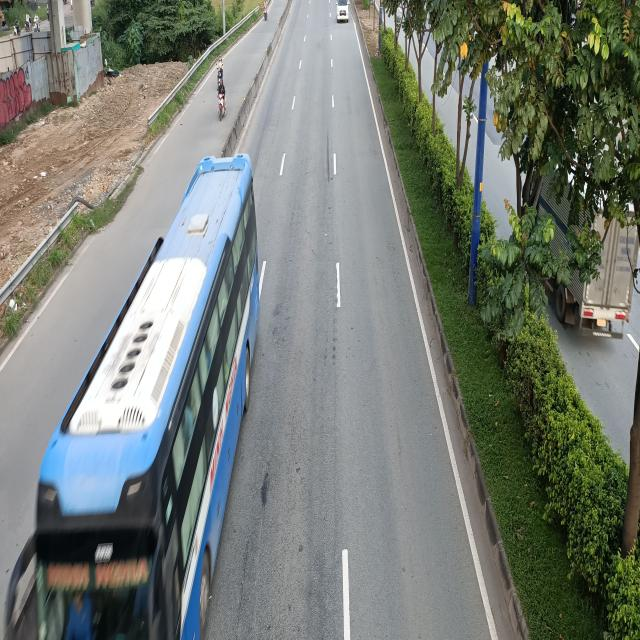coach: (35, 154, 259, 640)
